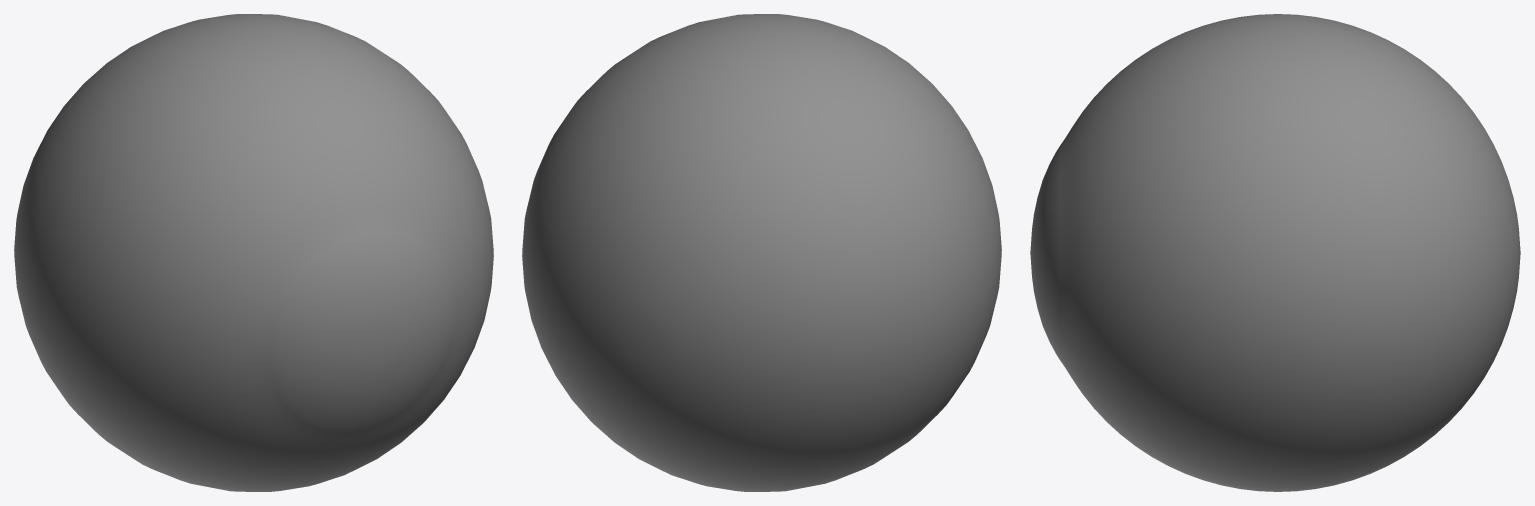
The model's file is eye.glb.
3 renders of one model, left to right at view 1: azimuth 30°, elevation 25°; view 2: azimuth 150°, elevation 25°; view 3: azimuth 270°, elevation 25°, orthographic.
Visible parts, largest first — view 1: OuterEye_low; view 2: OuterEye_low; view 3: OuterEye_low.
Part boxes in pixels (x1,y1,x2,y2): OuterEye_low: (14, 14, 493, 491); OuterEye_low: (522, 14, 1001, 491); OuterEye_low: (1030, 14, 1520, 491).
Bounding box in the file's own units: 1.98 × 1.98 × 2.03.
2 materials, 2 textured.
